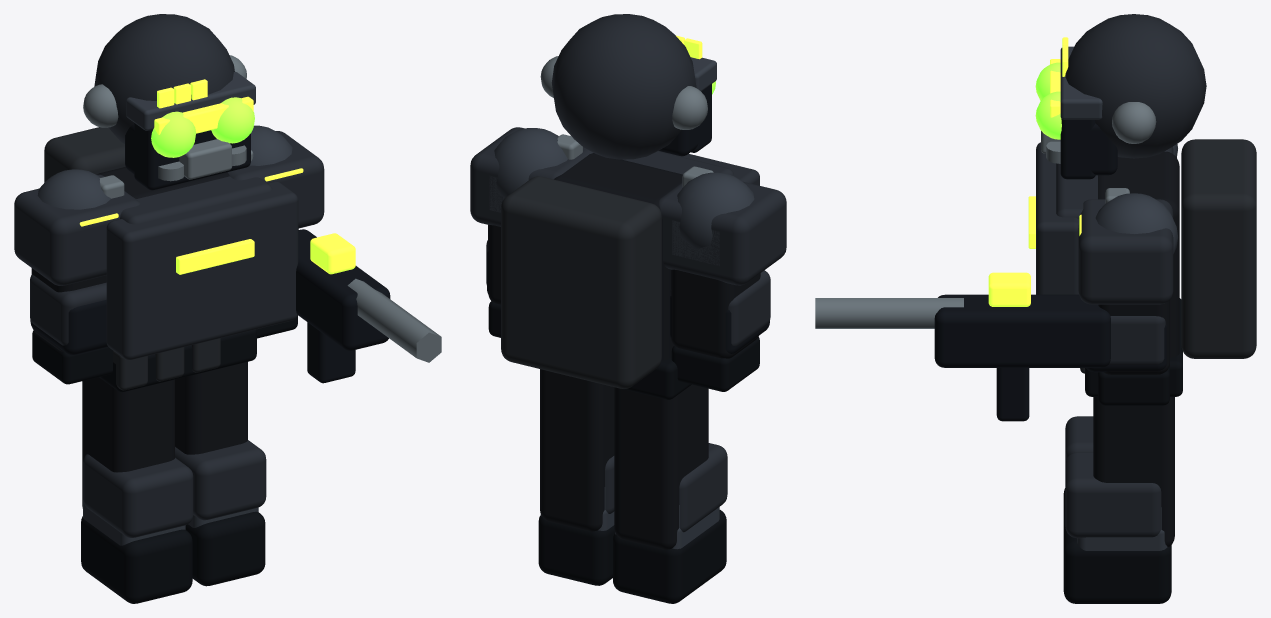
File: sentinel_l03.glb
3 views of the same model, side by side, from view 1: azimuth 30°, elevation 25°; view 2: azimuth 150°, elevation 25°; view 3: azimuth 270°, elevation 25° (orthographic). The views are drawn at different scales.
Parts seen in each view (by area): view 1: tactical_chest_plate, trouser (×2), shaped_knee_guard (×2), boot (×2), broad_shoulder_guard (×2), rounded_helmet, heavy_carbine, shoulder_joint (×2), segmented_vest, heavy_barrel, field_pack, forearm_plate (+20 smaller); view 2: field_pack, trouser (×2), rounded_helmet, broad_shoulder_guard (×2), boot (×2), shoulder_joint (×2), sleeve (×2), body, shaped_knee_guard (×2), glove, forearm_plate, belt (+10 smaller); view 3: field_pack, rounded_helmet, heavy_carbine, broad_shoulder_guard, trouser, shaped_knee_guard (×2), boot, tactical_chest_plate, body, heavy_barrel, forearm_plate, shoulder_joint (+14 smaller).
Boxes of the visible parts, bbox=[...] form: tactical_chest_plate: bbox=[106, 181, 298, 360]; trouser (×2): bbox=[82, 362, 247, 508]; shaped_knee_guard (×2): bbox=[83, 440, 266, 537]; boot (×2): bbox=[81, 511, 265, 603]; broad_shoulder_guard (×2): bbox=[14, 131, 324, 285]; rounded_helmet: bbox=[94, 14, 234, 143]; heavy_carbine: bbox=[296, 229, 390, 350]; shoulder_joint (×2): bbox=[37, 125, 292, 209]; segmented_vest: bbox=[120, 176, 272, 224]; heavy_barrel: bbox=[347, 278, 441, 362]; field_pack: bbox=[44, 127, 125, 182]; forearm_plate: bbox=[30, 274, 106, 345]; field_pack: bbox=[501, 176, 661, 388]; trouser (×2): bbox=[540, 369, 708, 549]; rounded_helmet: bbox=[551, 14, 696, 159]; broad_shoulder_guard (×2): bbox=[470, 127, 786, 285]; boot (×2): bbox=[538, 510, 726, 603]; shoulder_joint (×2): bbox=[494, 128, 754, 248]; sleeve (×2): bbox=[488, 225, 760, 358]; body: bbox=[554, 153, 682, 360]; shaped_knee_guard (×2): bbox=[605, 443, 727, 532]; glove: bbox=[671, 337, 759, 391]; forearm_plate: bbox=[670, 270, 770, 346]; belt: bbox=[623, 357, 691, 399]; field_pack: bbox=[1181, 139, 1256, 358]; rounded_helmet: bbox=[1065, 14, 1206, 158]; heavy_carbine: bbox=[934, 294, 1110, 367]; broad_shoulder_guard: bbox=[1078, 199, 1173, 304]; trouser: bbox=[1093, 397, 1174, 546]; shaped_knee_guard (×2): bbox=[1065, 416, 1161, 538]; boot: bbox=[1063, 524, 1171, 603]; tactical_chest_plate: bbox=[1036, 142, 1078, 294]; body: bbox=[1098, 151, 1179, 357]; heavy_barrel: bbox=[815, 298, 963, 328]; forearm_plate: bbox=[1108, 316, 1165, 364]; shoulder_joint: bbox=[1095, 193, 1177, 253].
Bounding box in the file's own units: 0.975 × 1.87 × 1.35.
